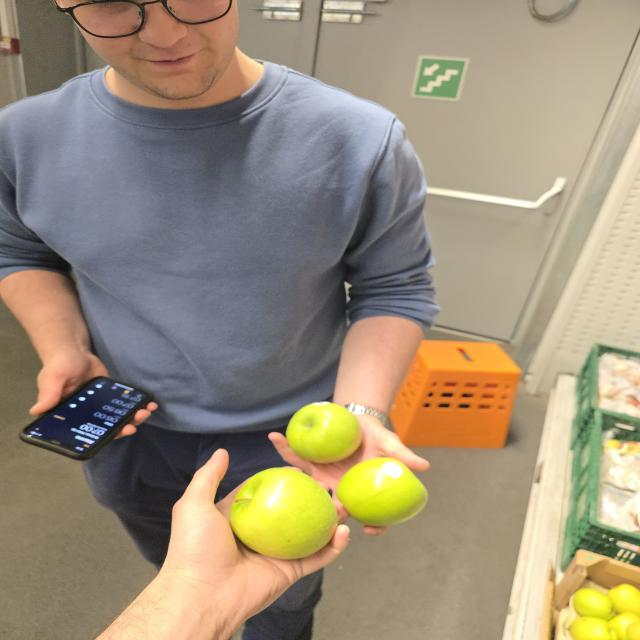Apple: (230, 467, 337, 560), (337, 457, 427, 527), (286, 402, 362, 463)
